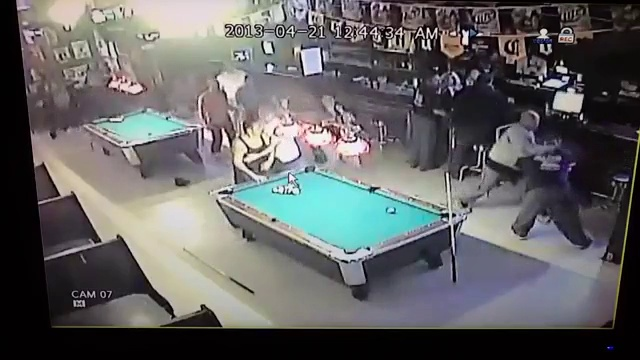normal: (451, 103, 597, 251)
